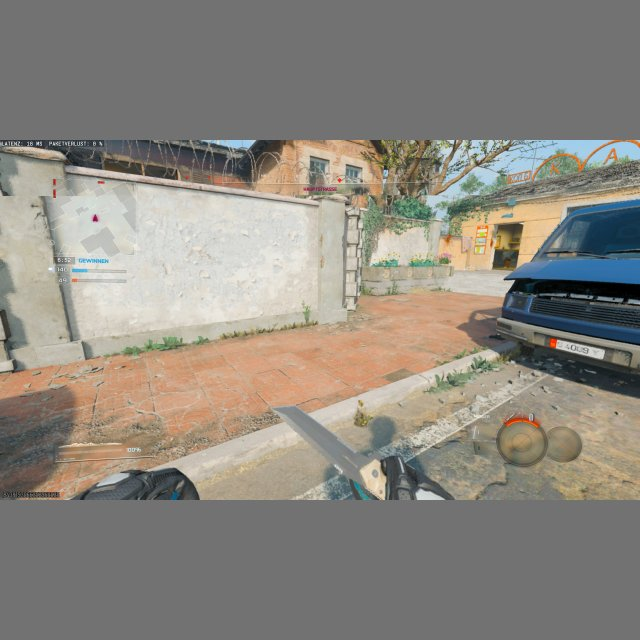player: (0, 240, 26, 376)
